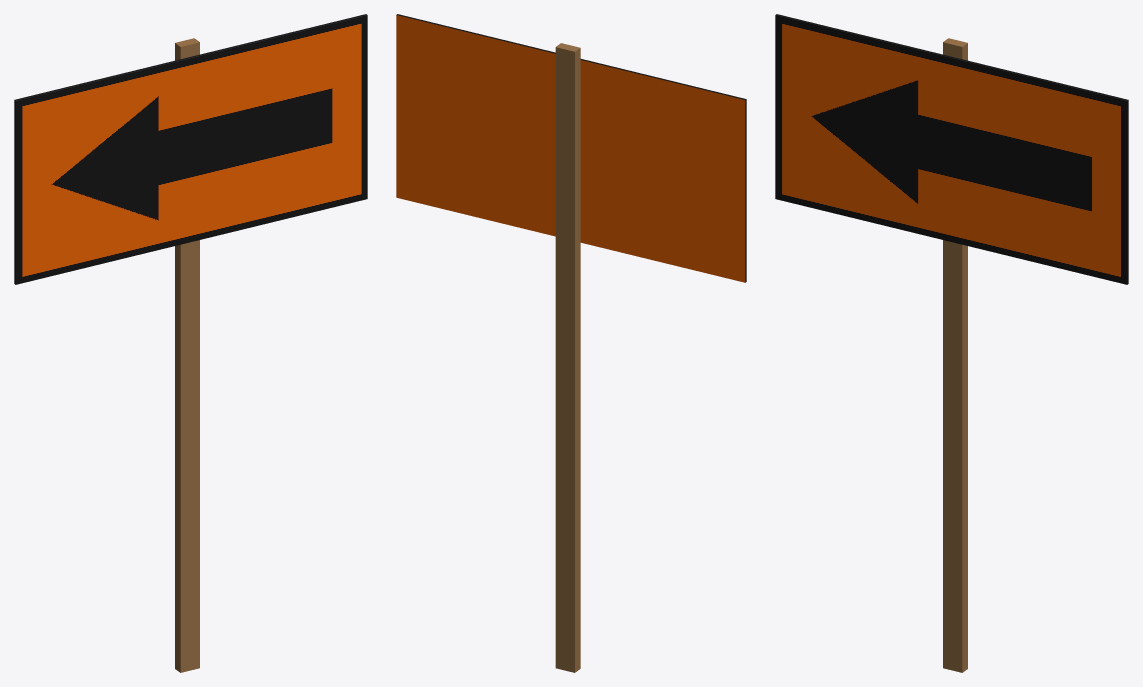
File: arrow1_l.dae
3 renders of one model, left to right at view 1: azimuth 30°, elevation 25°; view 2: azimuth 150°, elevation 25°; view 3: azimuth 330°, elevation 25°, orthographic.
Visible parts, largest first — view 1: marker; view 2: marker; view 3: marker.
Part boxes in pixels (<box>): marker: <box>14,14,367,672</box>; marker: <box>396,14,746,672</box>; marker: <box>775,14,1128,672</box>.
Size of the model in its own units: 0.9 by 0.031 by 1.53.
1 material, 1 textured.
